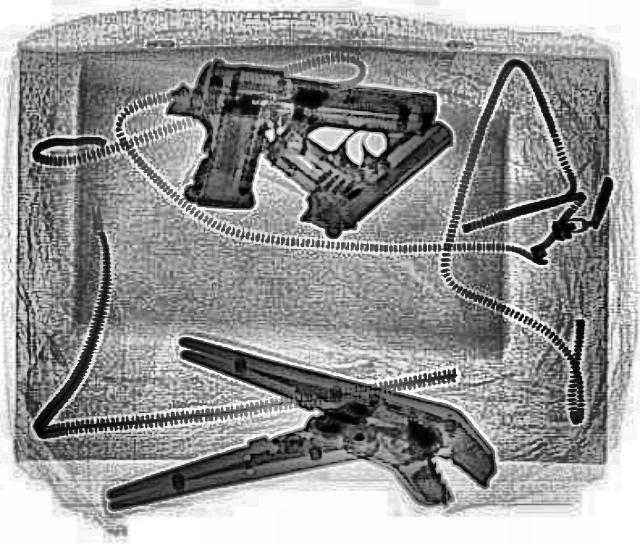Gun: (166, 55, 440, 231), (243, 66, 462, 236)
